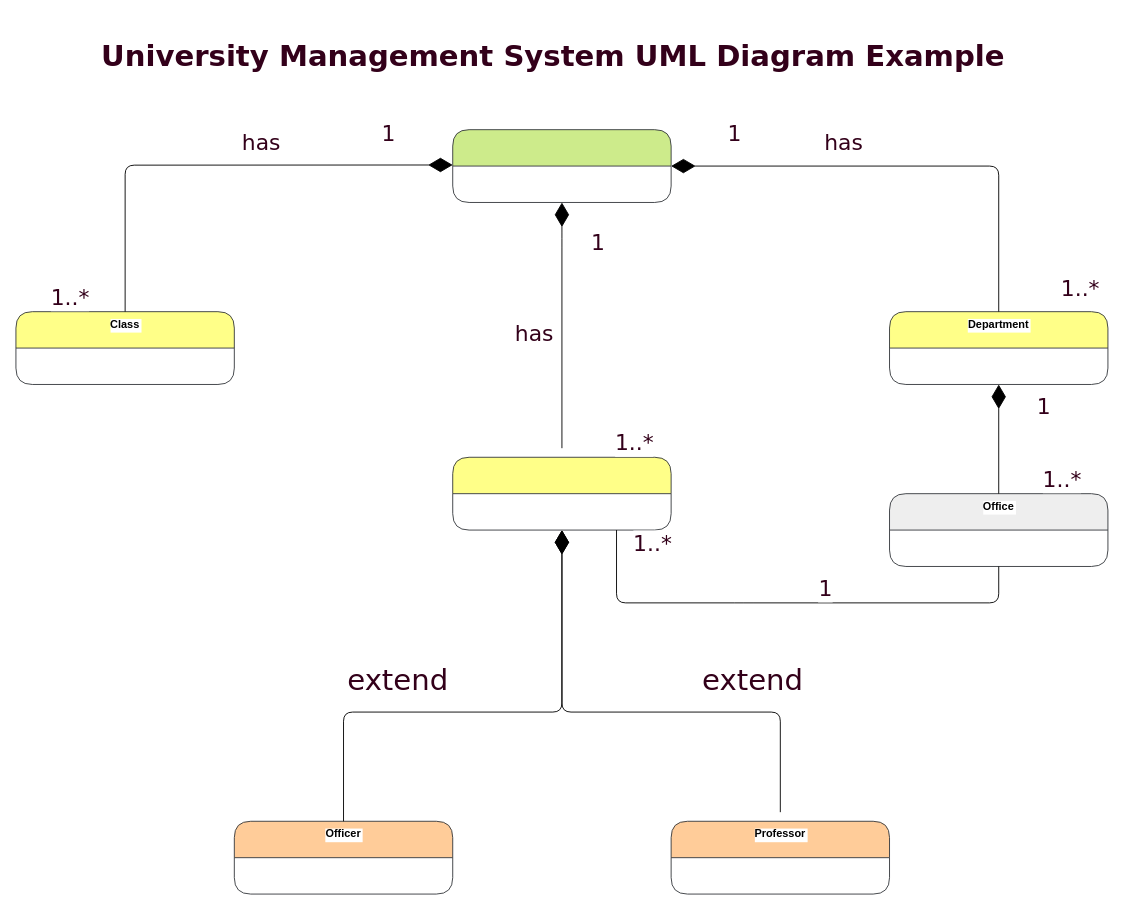
The diagram is 1124 pixels wide and 910 high, and some of its shapes have lost their labels. Here are the shapes that lost their labels. From the top down, the centre of each, then its label:
the point at 561,165: University
the point at 561,493: Employee
